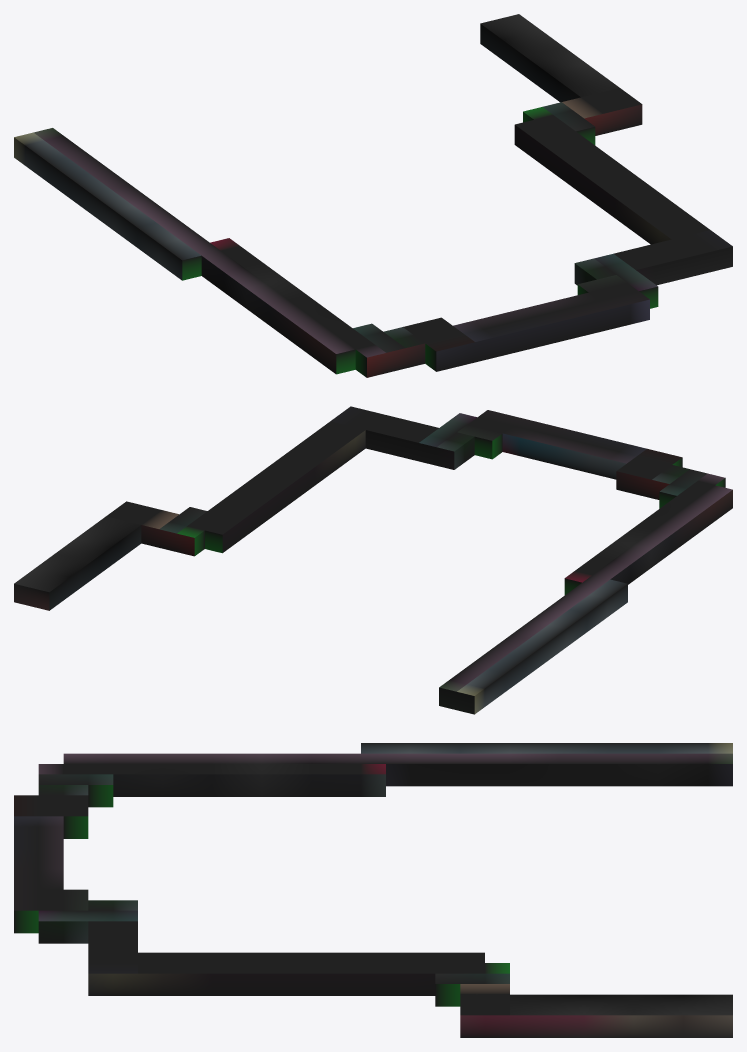
File: Cable_I_00.fbx
3 views of the same model, one above another, from view 1: azimuth 30°, elevation 25°; view 2: azimuth 150°, elevation 25°; view 3: azimuth 270°, elevation 25° (orthographic). The views are drawn at different scales.
Parts seen in each view (by area): view 1: Cable_I_00; view 2: Cable_I_00; view 3: Cable_I_00.
Boxes of the visible parts, x1=… form: Cable_I_00: x1=14, y1=14, x2=732, y2=377; Cable_I_00: x1=14, y1=406, x2=732, y2=714; Cable_I_00: x1=14, y1=743, x2=732, y2=1037.
Bounding box in the file's own units: 130 × 5 × 145.
